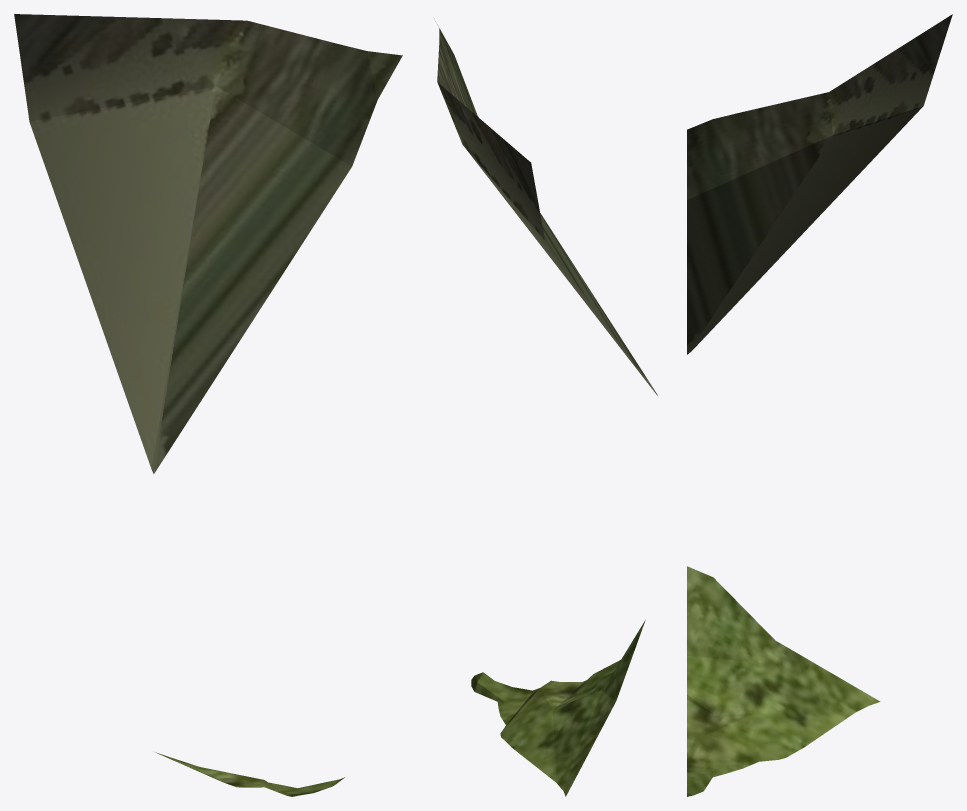
3 renders of one model, left to right at view 1: azimuth 30°, elevation 25°; view 2: azimuth 150°, elevation 25°; view 3: azimuth 270°, elevation 25°, orthographic. The views are drawn at different scales.
Bounding box in the file's own units: 1.06 × 2.95 × 1.03.
1 material, 1 textured.
